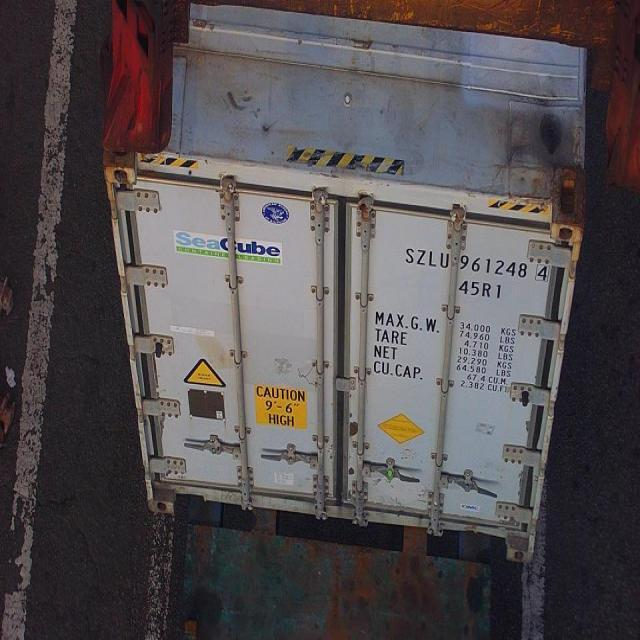ISO: (460, 278, 502, 299)
container_number: (402, 242, 550, 282)
